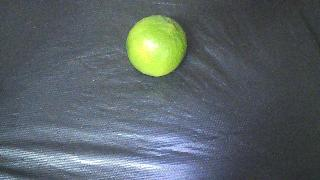LOCAL: (126, 15, 187, 77)
